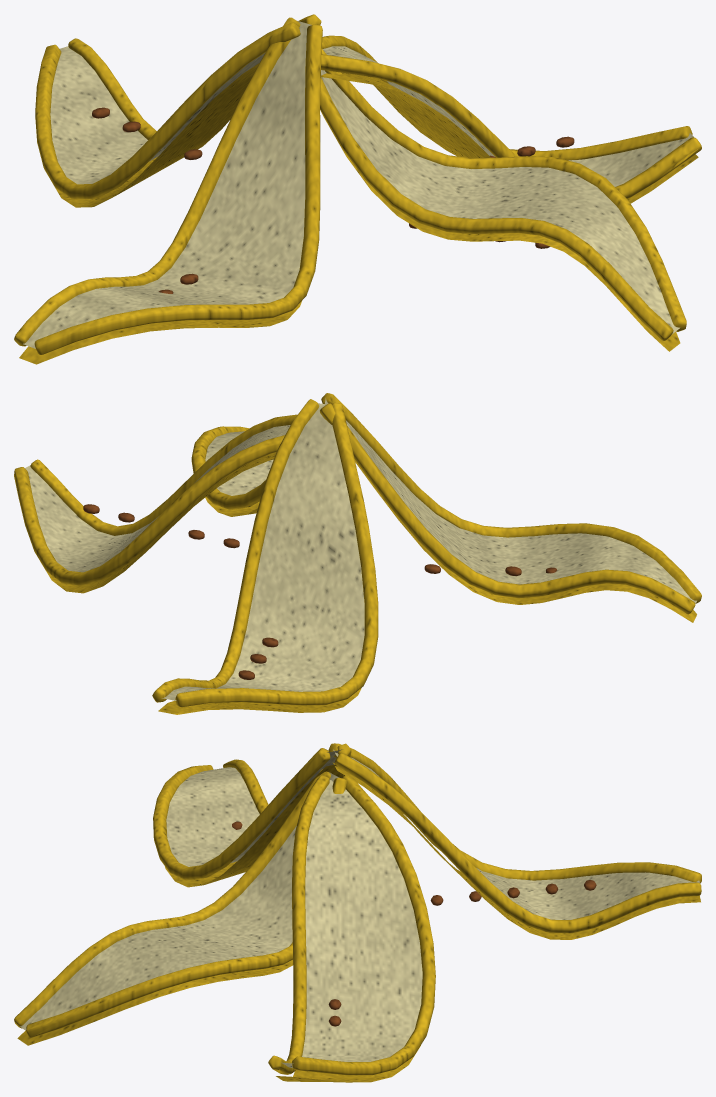
Rendered from food-06-full.glb.
The picture shows the model from 3 angles, top to bottom: view 1: azimuth 30°, elevation 25°; view 2: azimuth 150°, elevation 25°; view 3: azimuth 270°, elevation 25°; orthographic projection. The views are drawn at different scales.
Visible parts, largest first — view 1: Food; view 2: Food; view 3: Food.
Boxes of the visible parts, <box> form: Food: <box>14,14,701,364</box>; Food: <box>14,393,701,714</box>; Food: <box>14,743,701,1082</box>.
Bounding box in the file's own units: 0.8282 × 0.2699 × 0.7879.
1 material, 1 textured.
